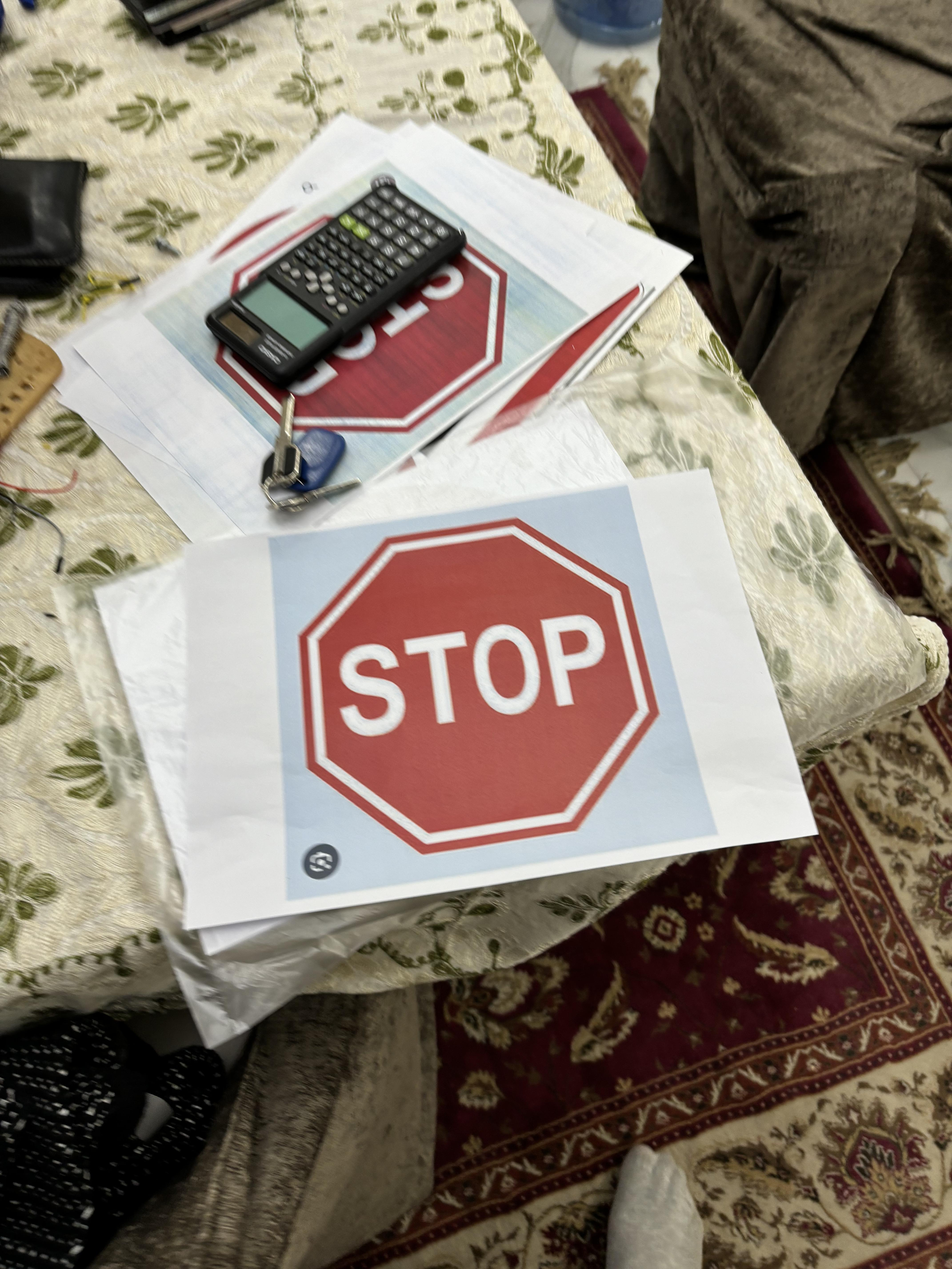Stop: (289, 520, 671, 856)
